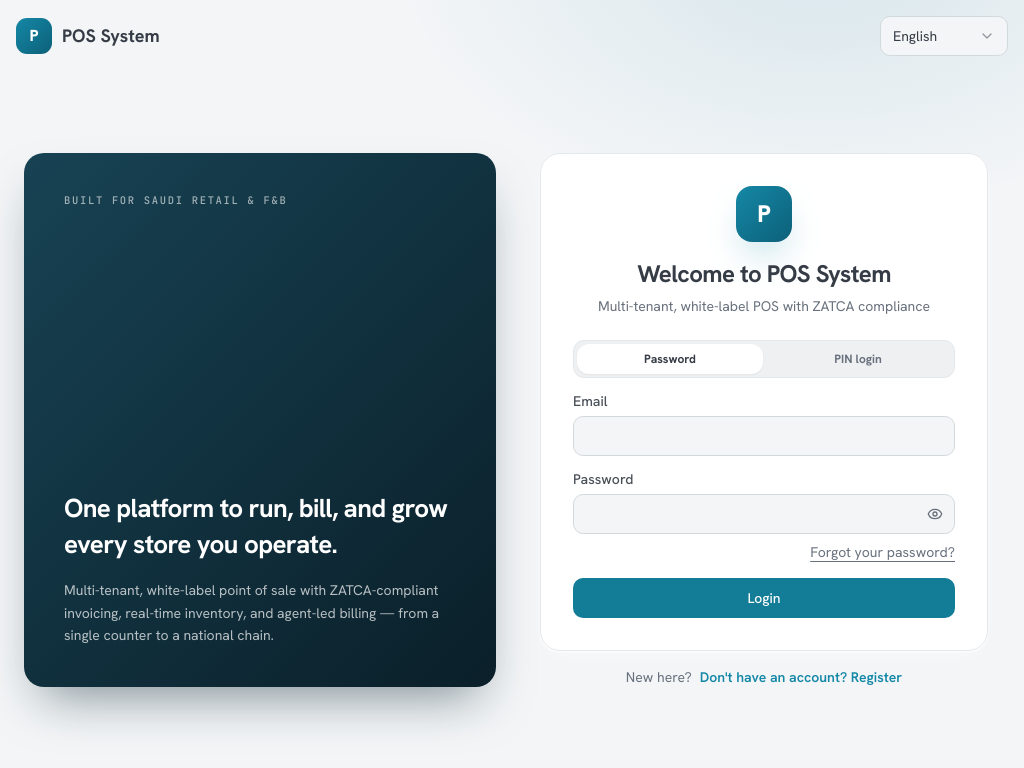
Test: Index login — error announcement (a11y, #275) › announces a login failure to screen readers via role="alert"
This screenshot has width=1024, height=768.
In the field labelled "Email": (764, 436) [573,416,955,456], type "a@b.com"
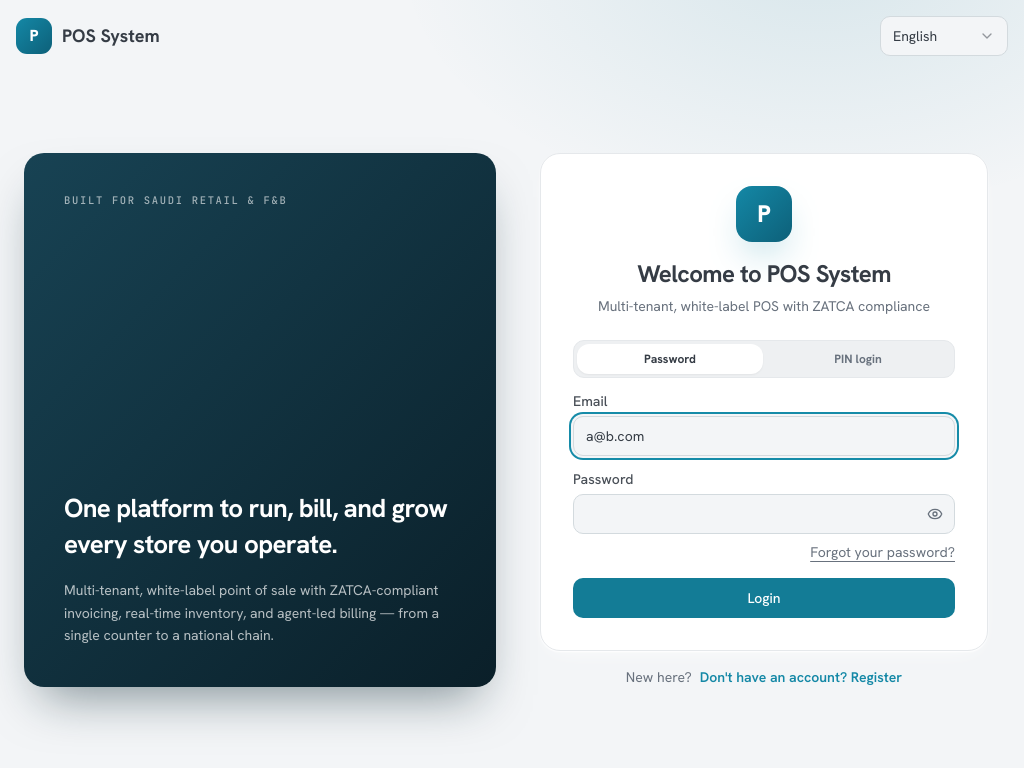
In the password field labelled "Password": (764, 514) [573,494,955,534], type "wrong-pass"
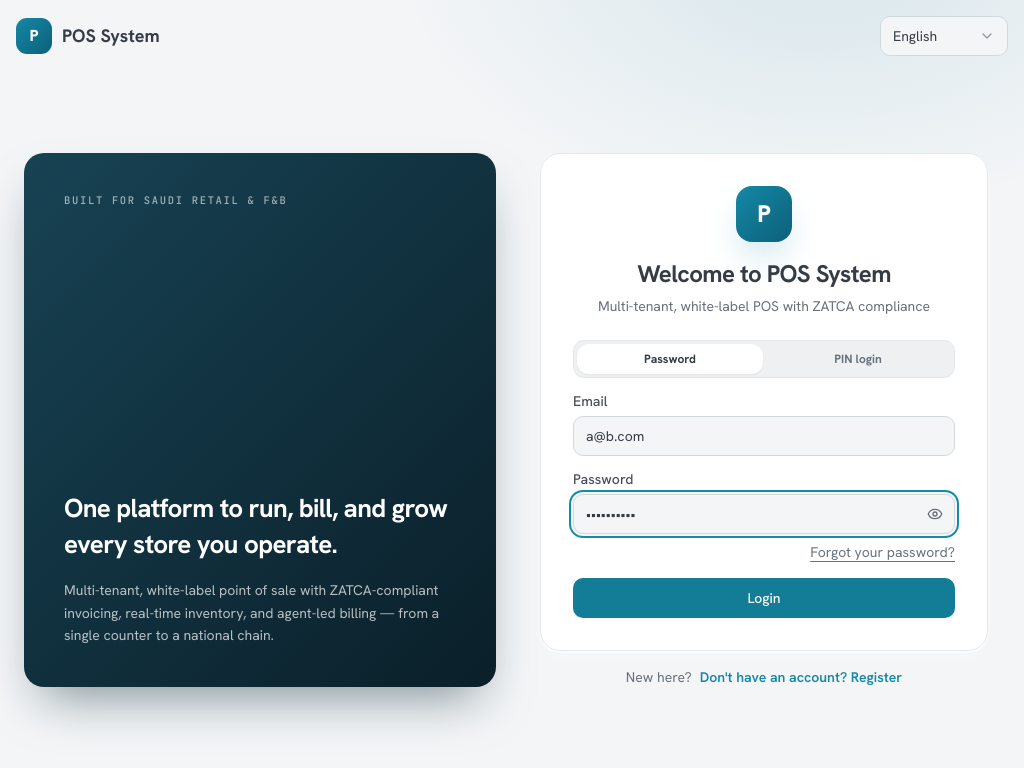
Click the button "Login": (764, 598) [573,578,955,618]
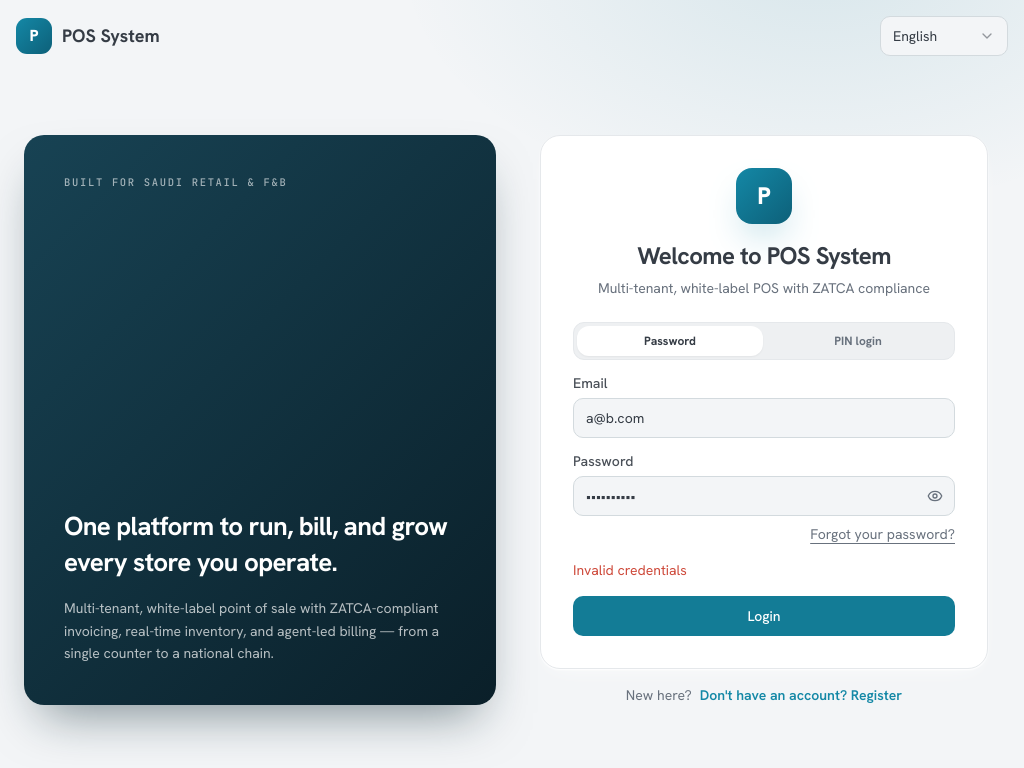
Now the message reads "Invalid credentials", box [573,561,687,579]
